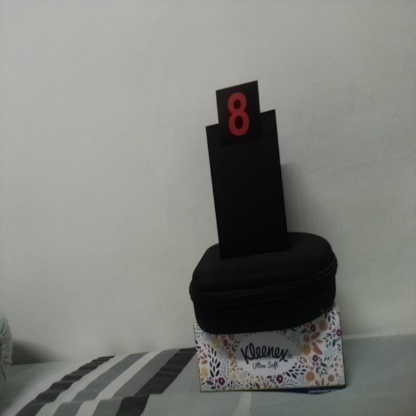id_8: (216, 90, 260, 152)
